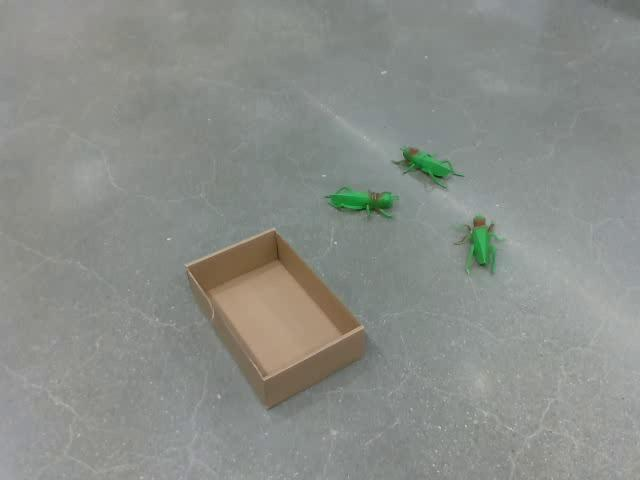box: (183, 226, 366, 410)
grasshopper: (392, 144, 464, 190), (453, 213, 506, 275), (323, 185, 399, 218)
